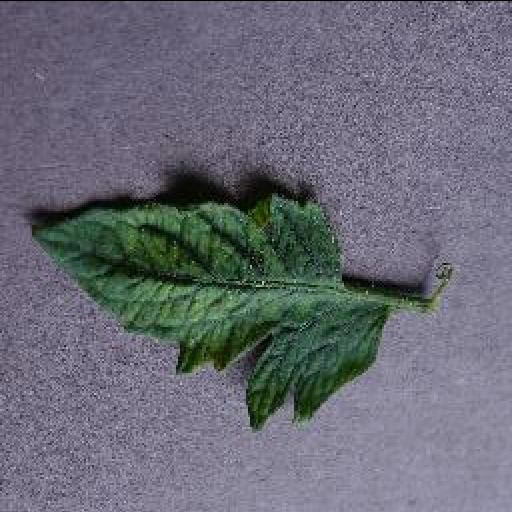disease_tomato: (24, 190, 388, 430)
